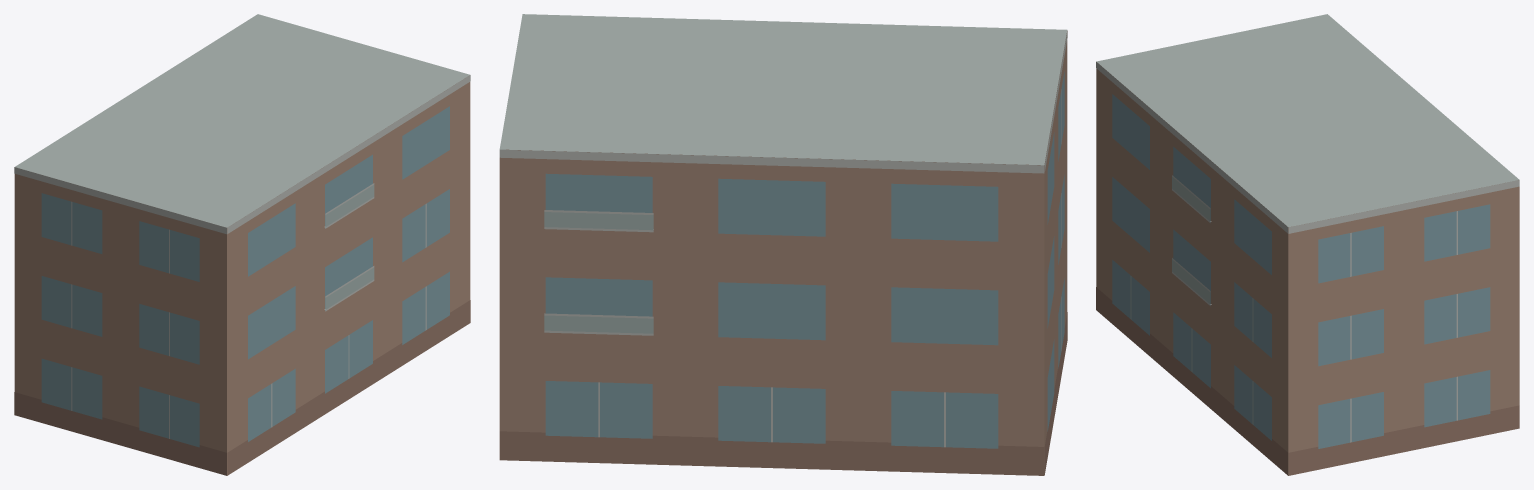
The model's file is survey-upis-32705812.glb.
3 renders of one model, left to right at view 1: azimuth 30°, elevation 25°; view 2: azimuth 150°, elevation 25°; view 3: azimuth 270°, elevation 25°, orthographic. The views are drawn at different scales.
Parts seen in each view (by area): view 1: survey-upis-32705812.tmp; view 2: survey-upis-32705812.tmp; view 3: survey-upis-32705812.tmp.
Part boxes in pixels (x1,y1,x2,y2): survey-upis-32705812.tmp: (14, 14, 470, 475); survey-upis-32705812.tmp: (499, 14, 1067, 475); survey-upis-32705812.tmp: (1096, 14, 1519, 475).
Size of the model in its own units: 16.85 by 9.15 by 14.14.
